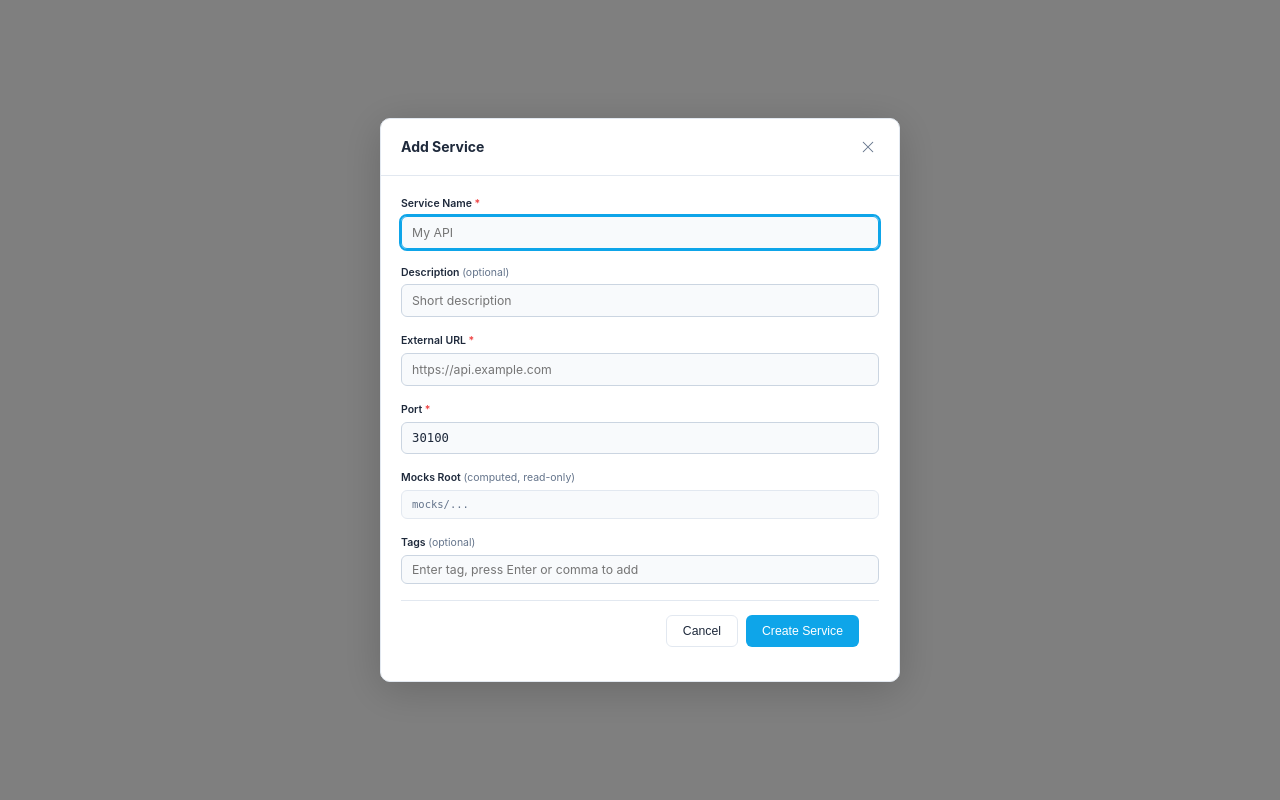
AddEditServiceModal — AC-5, AC-8: form validation and slug-change warning › validates externalUrl format on blur (AC-5)
Step 1. Type "not-a-url" into the field with test id "input-service-url" → (640, 370), box [401, 353, 879, 386]
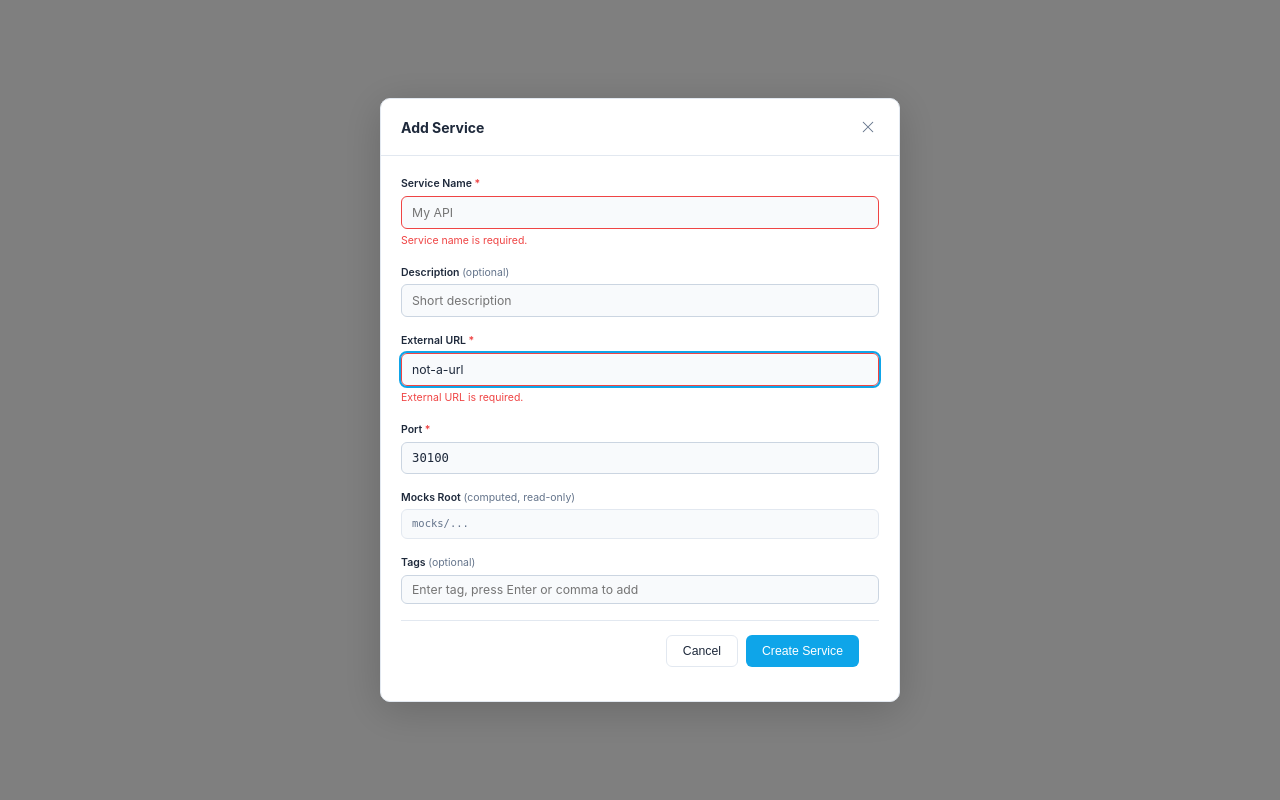
Step 2. Leave the field with test id "input-service-url", box [401, 353, 879, 386]
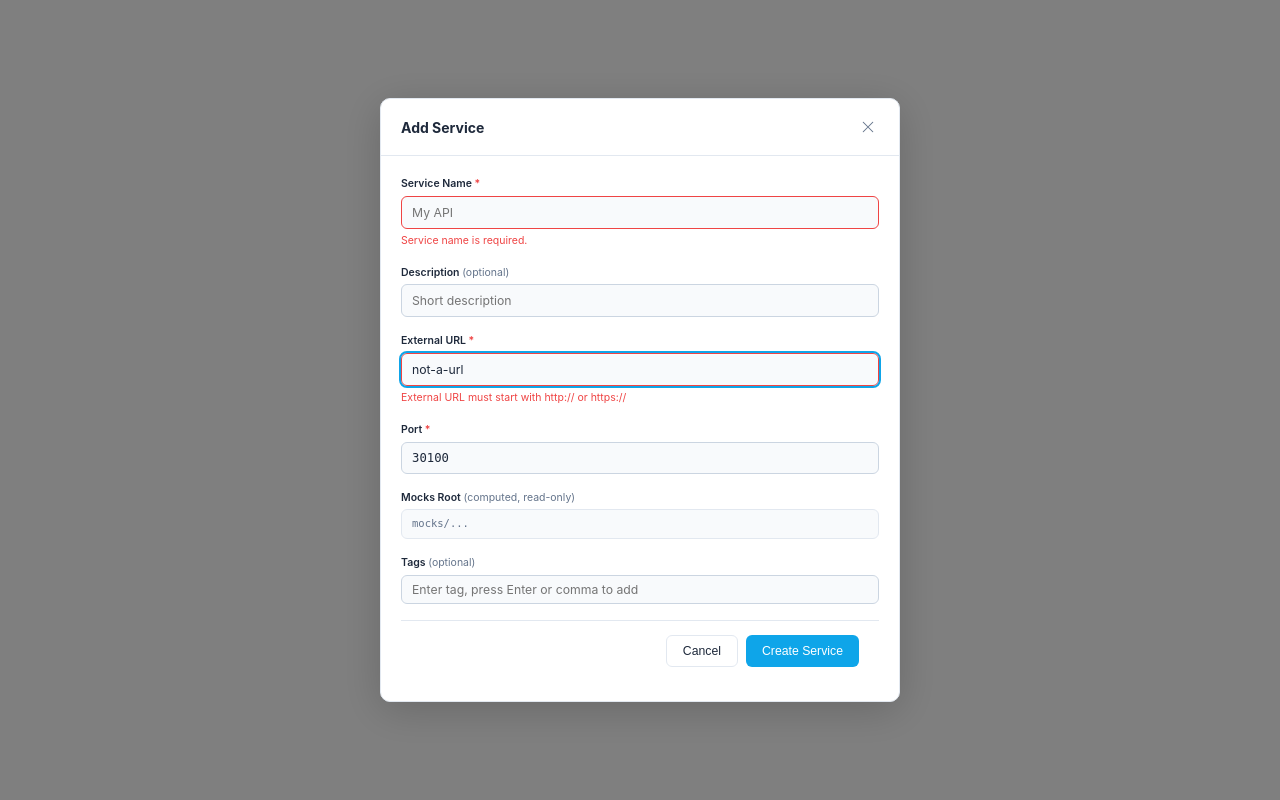
expect the text "External URL must start with http:// or https://" is shown: met, box [401, 391, 626, 404]
